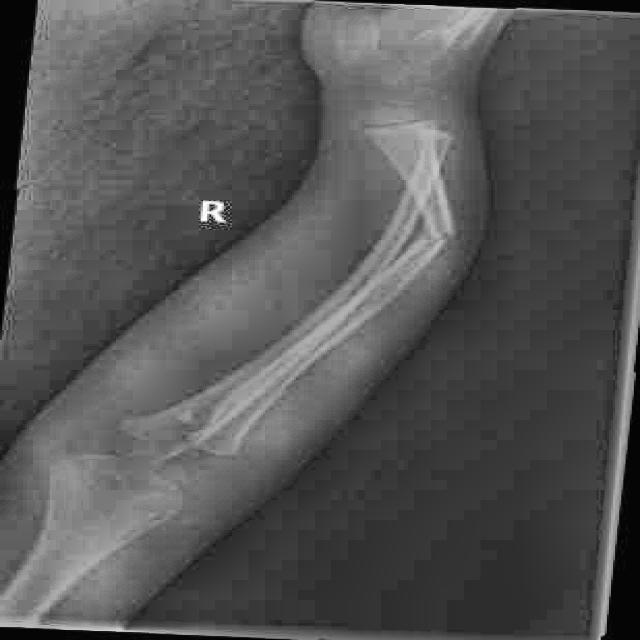forearm fracture: (358, 194, 471, 294)
